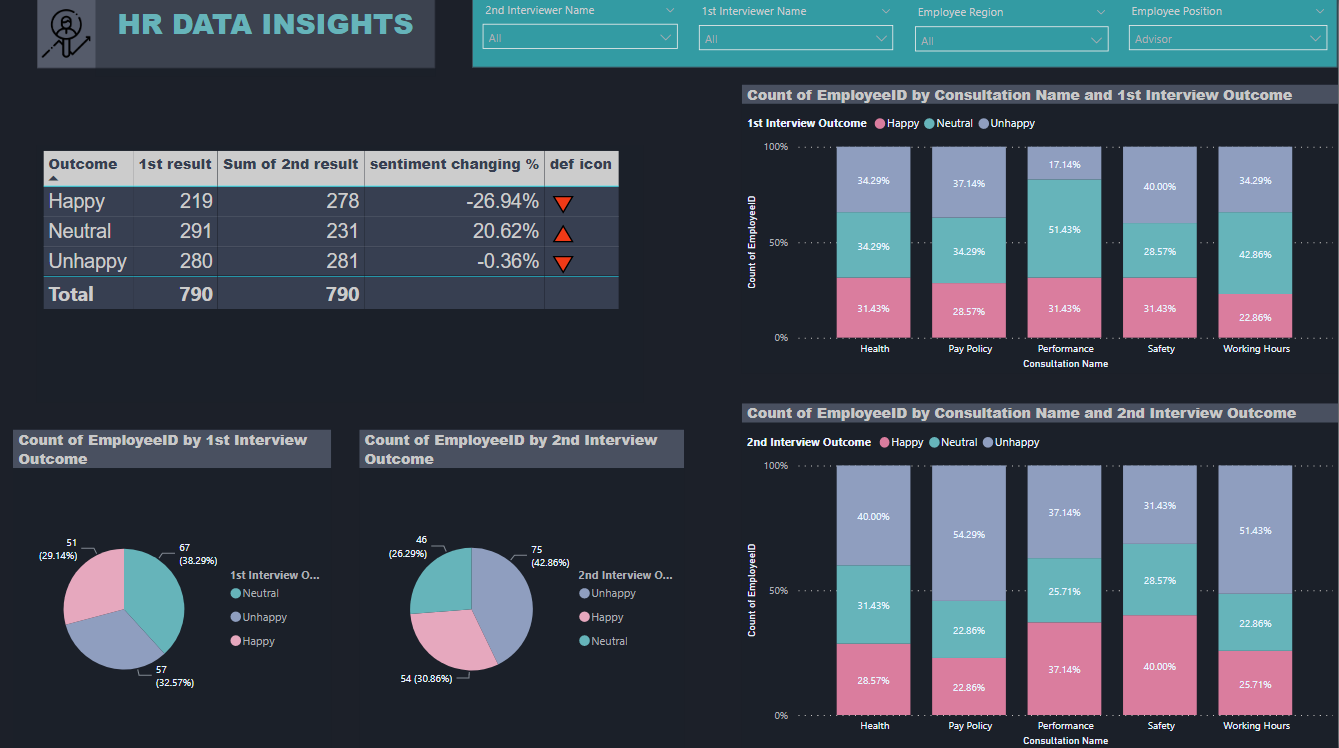

The dashboard page shown, as its layout file describes it:
{"tool":"powerbi","page":{"name":"2","canvas":[1280,720],"ordinal":1},"visuals":[{"type":"shape","box":[453,1.3,827,66.2],"z":500},{"type":"shape","box":[36.9,1.3,380.4,67.4],"z":1000},{"type":"hundredPercentStackedColumnChart","fields":{"Category":["Consulation.Consultation Name"],"Y":["CountNonNull(interview.EmployeeID)"],"Series":["interview.2nd Interview Outcome"]},"box":[710,388.1,570,332.1],"z":2000},{"type":"hundredPercentStackedColumnChart","fields":{"Category":["Consulation.Consultation Name"],"Series":["interview.1st Interview Outcome"],"Y":["CountNonNull(interview.EmployeeID)"]},"box":[710,84,570,276.1],"z":3000},{"type":"tableEx","fields":{"Values":["result 1.Outcome","Sum(result 1.1st result)","Sum(result 2.2nd result)","Measures 2.different","1st Interviewer.emoji"]},"box":[36.9,142.5,578.9,245.6],"z":4000},{"type":"pieChart","fields":{"Y":["CountNonNull(interview.EmployeeID)"],"Series":["interview.1st Interview Outcome"]},"box":[14,413.5,304.1,306.6],"z":5000},{"type":"pieChart","fields":{"Series":["interview.2nd Interview Outcome"],"Y":["CountNonNull(interview.EmployeeID)"]},"box":[344.8,413.5,310.5,306.6],"z":6000},{"type":"slicer","fields":{"Values":["Employee.Employee Position"]},"box":[1070.1,1.3,209.9,67.4],"z":7000},{"type":"slicer","fields":{"Values":["Employee.Employee Region"]},"box":[865.2,2.5,204.9,66.2],"z":8000},{"type":"slicer","fields":{"Values":["interview.1st Interviewer Name"]},"box":[659.1,1.3,206.1,67.4],"z":9000},{"type":"slicer","fields":{"Values":["interview.2nd Interviewer Name"]},"box":[452.5,0,206.6,69.3],"z":10000},{"type":"textbox","box":[92.9,1.3,324.5,75.1],"z":11000},{"type":"image","box":[36.9,1.3,56,67.4],"z":12000}]}

Visuals, with their boxes in screenshot pixels (x1, y1, x2, y2), scaled from the page's 1280x720 canvas onto the 1339x748 screenshot:
shape: 474:1:1338:70
shape: 39:1:437:71
hundredPercentStackedColumnChart - Consulation.Consultation Name x CountNonNull(interview.EmployeeID): 743:403:1338:747
hundredPercentStackedColumnChart - Consulation.Consultation Name x interview.1st Interview Outcome: 743:87:1338:374
tableEx - result 1.Outcome x Sum(result 1.1st result): 39:148:644:403
pieChart - CountNonNull(interview.EmployeeID) x interview.1st Interview Outcome: 15:430:333:747
pieChart - interview.2nd Interview Outcome x CountNonNull(interview.EmployeeID): 361:430:686:747
slicer - Employee.Employee Position: 1119:1:1338:71
slicer - Employee.Employee Region: 905:3:1119:71
slicer - interview.1st Interviewer Name: 689:1:905:71
slicer - interview.2nd Interviewer Name: 473:0:689:72
textbox: 97:1:437:79
image: 39:1:97:71
